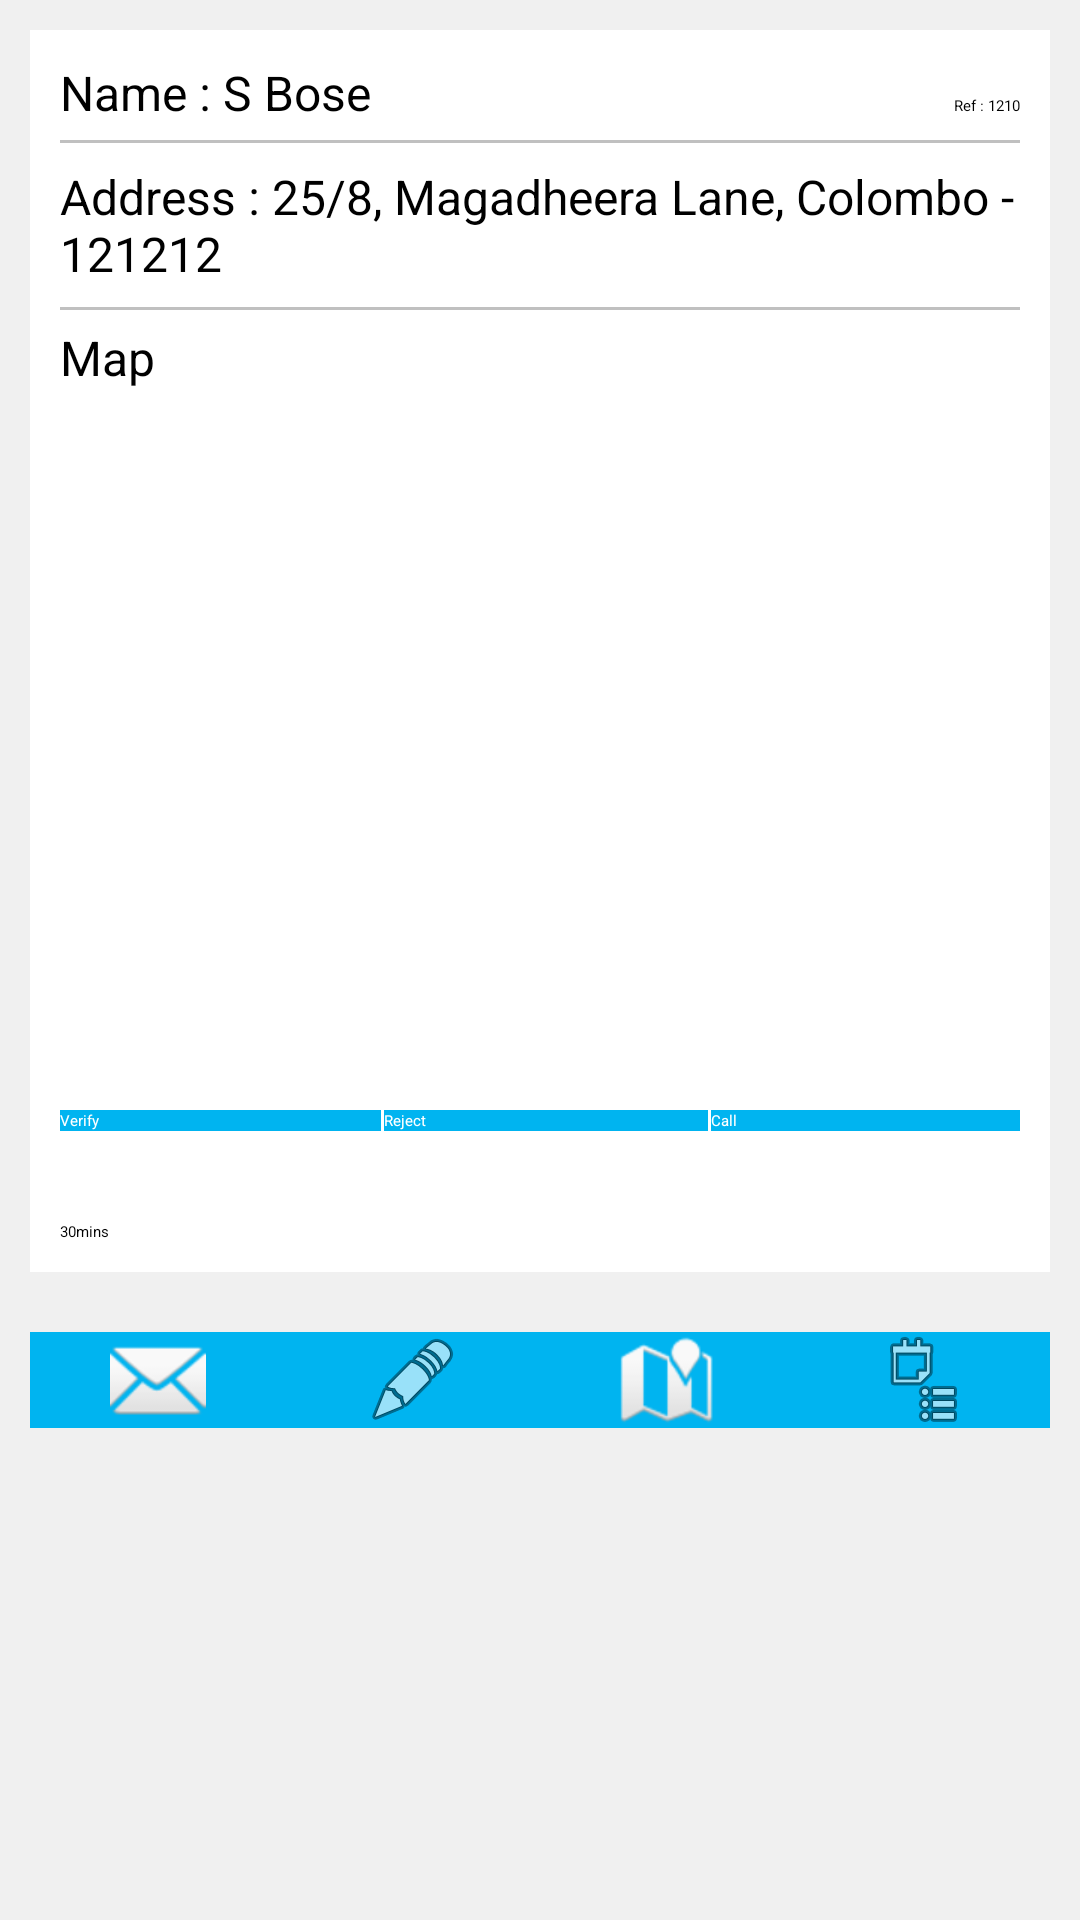

Screen size 1080 x 1920. Icon name, then its box in pixels as (left=x1, top=y1, right=x2, bottom=y2):
agenda: (left=795, top=1332, right=1050, bottom=1428)
edit: (left=372, top=1339, right=453, bottom=1420)
email: (left=30, top=1332, right=285, bottom=1428)
map: (left=620, top=1337, right=713, bottom=1422)
